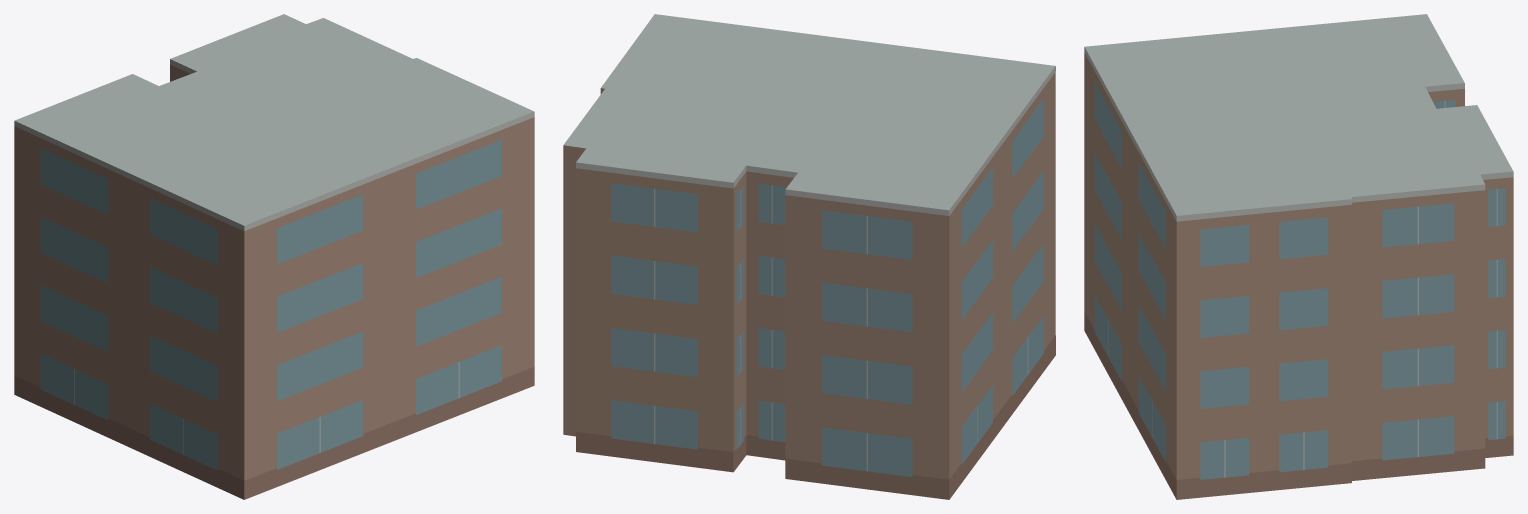
The model's file is survey-upis-32973743.glb.
The picture shows the model from 3 angles, left to right: view 1: azimuth 30°, elevation 25°; view 2: azimuth 150°, elevation 25°; view 3: azimuth 270°, elevation 25°; orthographic projection. The views are drawn at different scales.
Visible parts, largest first — view 1: survey-upis-32973743.tmp; view 2: survey-upis-32973743.tmp; view 3: survey-upis-32973743.tmp.
Part boxes in pixels (box(x1,y1,x2,y2)): survey-upis-32973743.tmp: box(14, 14, 534, 499); survey-upis-32973743.tmp: box(563, 14, 1055, 499); survey-upis-32973743.tmp: box(1084, 14, 1513, 499).
Bounding box in the file's own units: 18.78 × 12.3 × 16.86.
